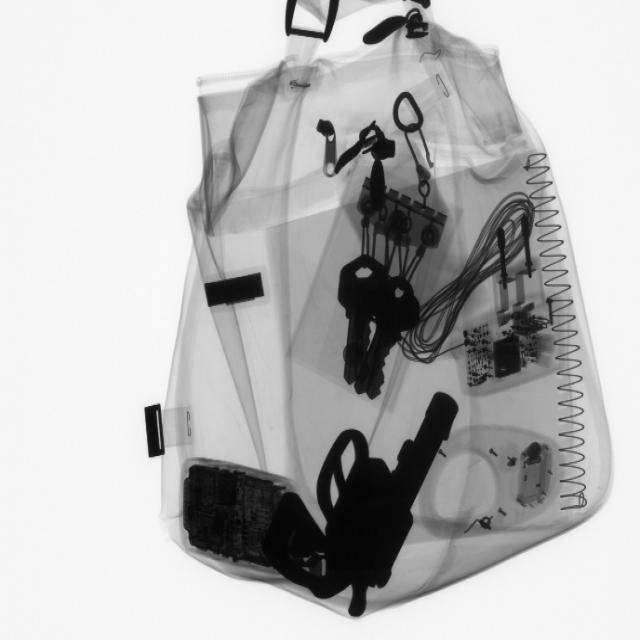GUN: (268, 388, 457, 616)
